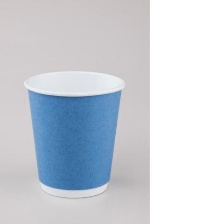paper_cup: (18, 65, 130, 201)
